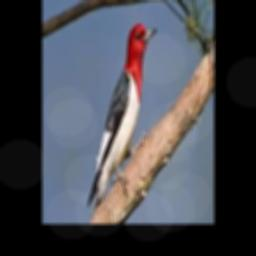Woodpecker: (87, 23, 157, 216)
